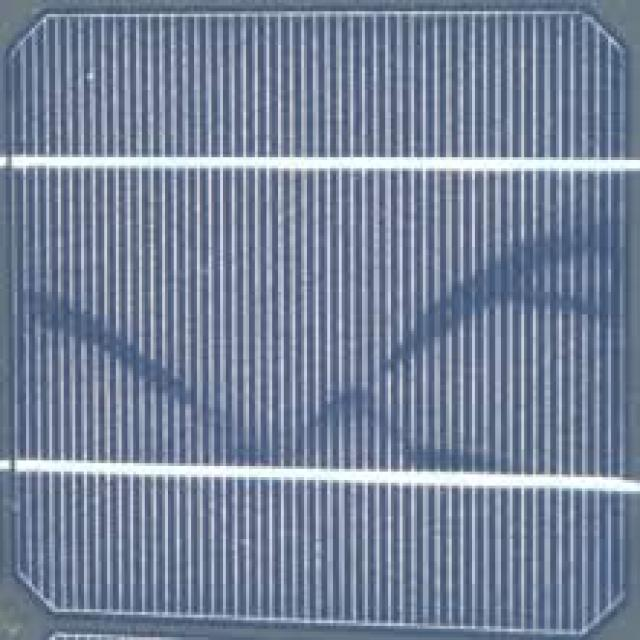faulty: (8, 16, 640, 637)
